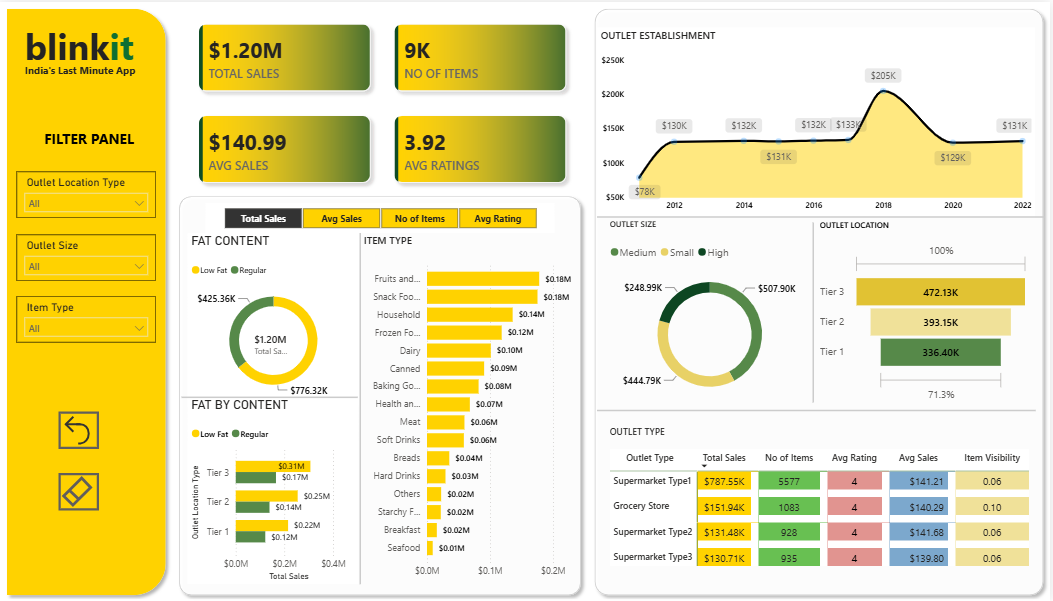

Layout of this report page (visuals, bound fields, positions):
{"tool":"powerbi","page":{"name":"Page 1","canvas":[1400,800],"ordinal":0},"visuals":[{"type":"shape","box":[0,0,230,800],"z":0},{"type":"textbox","box":[28.9,20.7,186,111.6],"z":1000},{"type":"textbox","box":[28,76,208.8,84.7],"z":2000},{"type":"cardVisual","fields":{"Data":["BlinkIT Grocery Data xlsx - BlinkIT Grocery Data.Total Sales","BlinkIT Grocery Data xlsx - BlinkIT Grocery Data.No of Items","BlinkIT Grocery Data xlsx - BlinkIT Grocery Data.Avg Sales","BlinkIT Grocery Data xlsx - BlinkIT Grocery Data.Avg Rating"]},"box":[236,0,548,270],"z":3000},{"type":"shape","box":[230,250,553.3,550],"z":4000},{"type":"donutChart","title":"FAT CONTENT","fields":{"Y":["BlinkIT Grocery Data xlsx - BlinkIT Grocery Data.Total Sales"],"Category":["BlinkIT Grocery Data xlsx - BlinkIT Grocery Data.Item Fat Content"]},"box":[250,308.3,228.3,230],"z":5000},{"type":"slicer","fields":{"Values":["Metrics.Metrics"]},"box":[273.3,268.3,465,40],"z":6000},{"type":"cardVisual","fields":{"Data":["BlinkIT Grocery Data xlsx - BlinkIT Grocery Data.Total Sales"]},"box":[310,424,104,64],"z":7000},{"type":"clusteredBarChart","title":"FAT BY CONTENT","fields":{"Y":["BlinkIT Grocery Data xlsx - BlinkIT Grocery Data.Total Sales"],"Category":["BlinkIT Grocery Data xlsx - BlinkIT Grocery Data.Outlet Location Type"],"Series":["BlinkIT Grocery Data xlsx - BlinkIT Grocery Data.Item Fat Content"]},"box":[250,526,228,250],"z":8000},{"type":"shape","box":[242,490,243.3,73.3],"z":9000},{"type":"shape","box":[461.7,308.3,36.7,468.3],"z":10000},{"type":"barChart","title":" ITEM TYPE","fields":{"Y":["BlinkIT Grocery Data xlsx - BlinkIT Grocery Data.Total Sales"],"Category":["BlinkIT Grocery Data xlsx - BlinkIT Grocery Data.Item Type"]},"box":[480,308.3,303.3,468.3],"z":11000},{"type":"shape","box":[784,0,616,800],"z":12000},{"type":"lineChart","title":" OUTLET ESTABLISHMENT","fields":{"Category":["BlinkIT Grocery Data xlsx - BlinkIT Grocery Data.Outlet Establishment Year"],"Y":["BlinkIT Grocery Data xlsx - BlinkIT Grocery Data.Total Sales"]},"box":[796,34,584,254],"z":13000},{"type":"donutChart","title":"OUTLET SIZE","fields":{"Category":["BlinkIT Grocery Data xlsx - BlinkIT Grocery Data.Outlet Size"],"Y":["BlinkIT Grocery Data xlsx - BlinkIT Grocery Data.Total Sales"]},"box":[808,288,276,256],"z":14000},{"type":"shape","box":[796,250,596.7,73.3],"z":15000},{"type":"shape","box":[1073.3,303.3,36.7,240],"z":16000},{"type":"funnel","title":"OUTLET LOCATION","fields":{"Category":["BlinkIT Grocery Data xlsx - BlinkIT Grocery Data.Outlet Location Type"],"Y":["Sum(BlinkIT Grocery Data xlsx - BlinkIT Grocery Data.Sales)"]},"box":[1088,290,288.3,248.3],"z":16001},{"type":"pivotTable","title":"OUTLET TYPE","fields":{"Rows":["BlinkIT Grocery Data xlsx - BlinkIT Grocery Data.Outlet Type"],"Values":["BlinkIT Grocery Data xlsx - BlinkIT Grocery Data.Total Sales","BlinkIT Grocery Data xlsx - BlinkIT Grocery Data.No of Items","BlinkIT Grocery Data xlsx - BlinkIT Grocery Data.Avg Rating","BlinkIT Grocery Data xlsx - BlinkIT Grocery Data.Avg Sales","Avg(BlinkIT Grocery Data xlsx - BlinkIT Grocery Data.Item Visibility)"]},"box":[808,564,590,220],"z":16002},{"type":"shape","box":[795,508.3,585,73.3],"z":16003},{"type":"slicer","fields":{"Values":["BlinkIT Grocery Data xlsx - BlinkIT Grocery Data.Outlet Location Type"]},"box":[22,226,186,62],"z":16004},{"type":"slicer","fields":{"Values":["BlinkIT Grocery Data xlsx - BlinkIT Grocery Data.Outlet Size"]},"box":[22,310,186,62],"z":16005},{"type":"slicer","fields":{"Values":["BlinkIT Grocery Data xlsx - BlinkIT Grocery Data.Item Type"]},"box":[22,392,186,62],"z":16006},{"type":"textbox","box":[54,164,138,44],"z":16007},{"type":"actionButton","box":[78,546,54,50],"z":16008},{"type":"actionButton","box":[78,628,54,50],"z":16009}]}

Visuals, with their boxes in screenshot pixels (x1, y1, x2, y2), scaled from the page's 1400x800 canvas onto the 1053x601 screenshot:
shape: [0,0,173,600]
textbox: [22,16,162,99]
textbox: [21,57,178,121]
cardVisual - BlinkIT Grocery Data xlsx - BlinkIT Grocery Data.Total Sales x BlinkIT Grocery Data xlsx - BlinkIT Grocery Data.No of Items: [178,0,590,203]
shape: [173,188,589,600]
"FAT CONTENT" donutChart: [188,232,360,404]
slicer - Metrics.Metrics: [206,202,555,232]
cardVisual - BlinkIT Grocery Data xlsx - BlinkIT Grocery Data.Total Sales: [233,319,311,367]
"FAT BY CONTENT" clusteredBarChart: [188,395,360,583]
shape: [182,368,365,423]
shape: [347,232,375,583]
" ITEM TYPE" barChart: [361,232,589,583]
shape: [590,0,1052,600]
" OUTLET ESTABLISHMENT" lineChart: [599,26,1038,216]
"OUTLET SIZE" donutChart: [608,216,815,409]
shape: [599,188,1048,243]
shape: [807,228,835,408]
"OUTLET LOCATION" funnel: [818,218,1035,404]
"OUTLET TYPE" pivotTable: [608,424,1051,589]
shape: [598,382,1038,437]
slicer - BlinkIT Grocery Data xlsx - BlinkIT Grocery Data.Outlet Location Type: [17,170,156,216]
slicer - BlinkIT Grocery Data xlsx - BlinkIT Grocery Data.Outlet Size: [17,233,156,279]
slicer - BlinkIT Grocery Data xlsx - BlinkIT Grocery Data.Item Type: [17,294,156,341]
textbox: [41,123,144,156]
actionButton: [59,410,99,448]
actionButton: [59,472,99,509]
